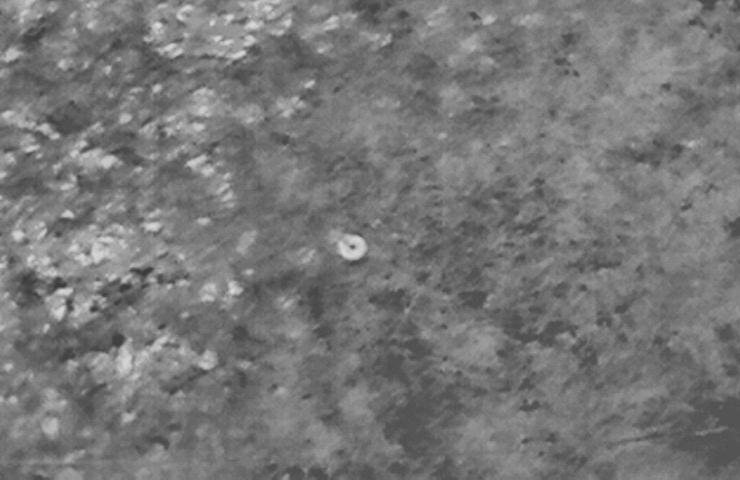landmines: (334, 229, 375, 263)
